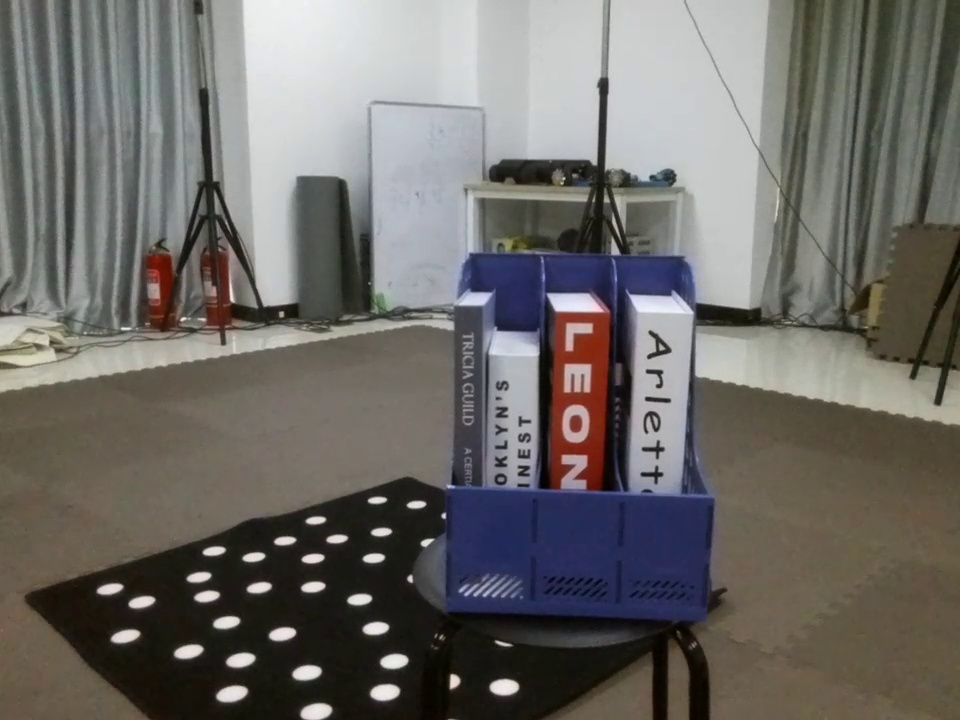files: (428, 239, 743, 628)
